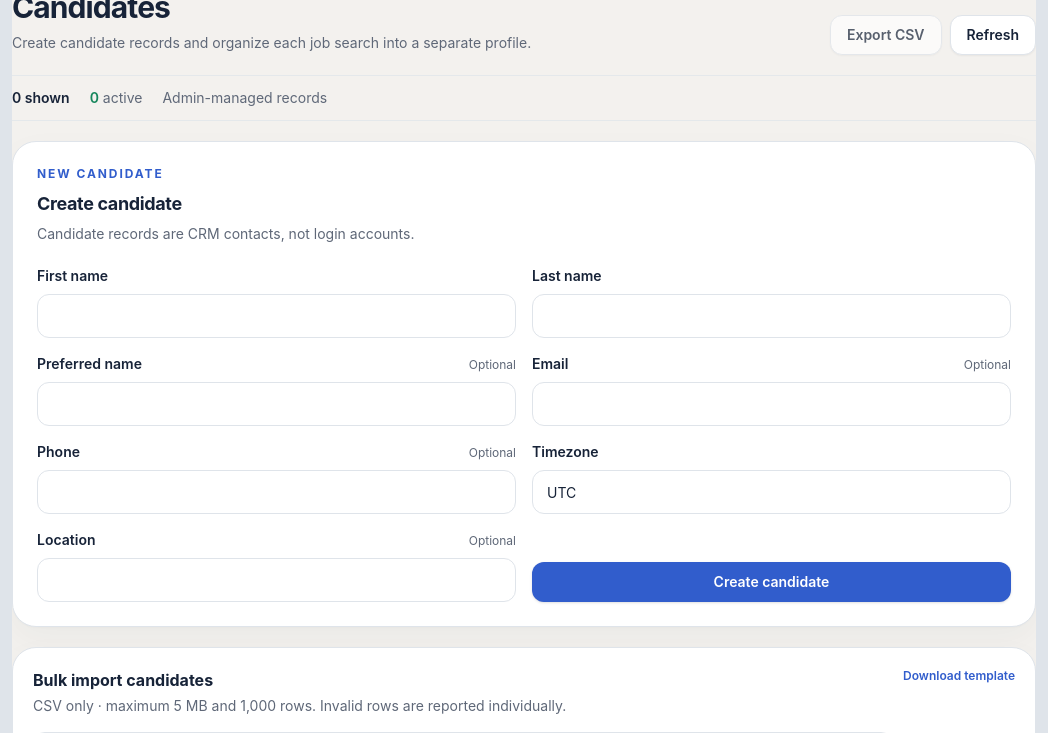
CandidateList › renders empty and retryable error states
Click the button with aria-label "Refresh candidates": (993, 35) [950,15,1036,55]
(page scrolled)
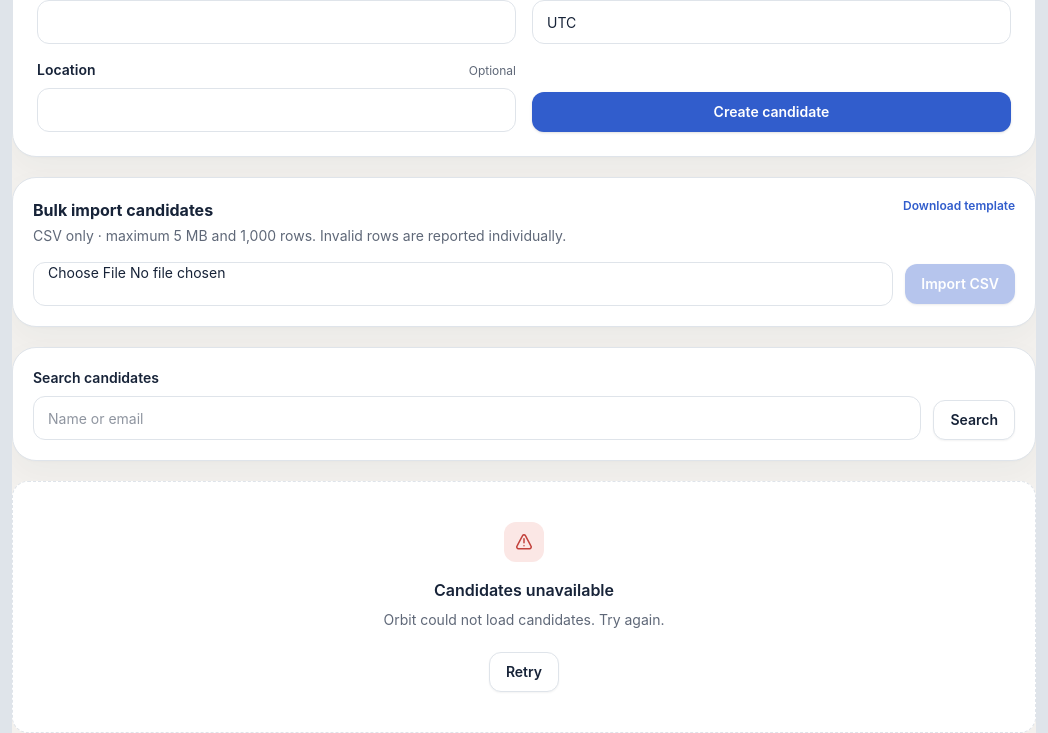
Result: the text "Candidates unavailable" is shown at [434,578,614,602]
Click the button "Retry": (524, 672) [489,652,559,692]
(page scrolled)
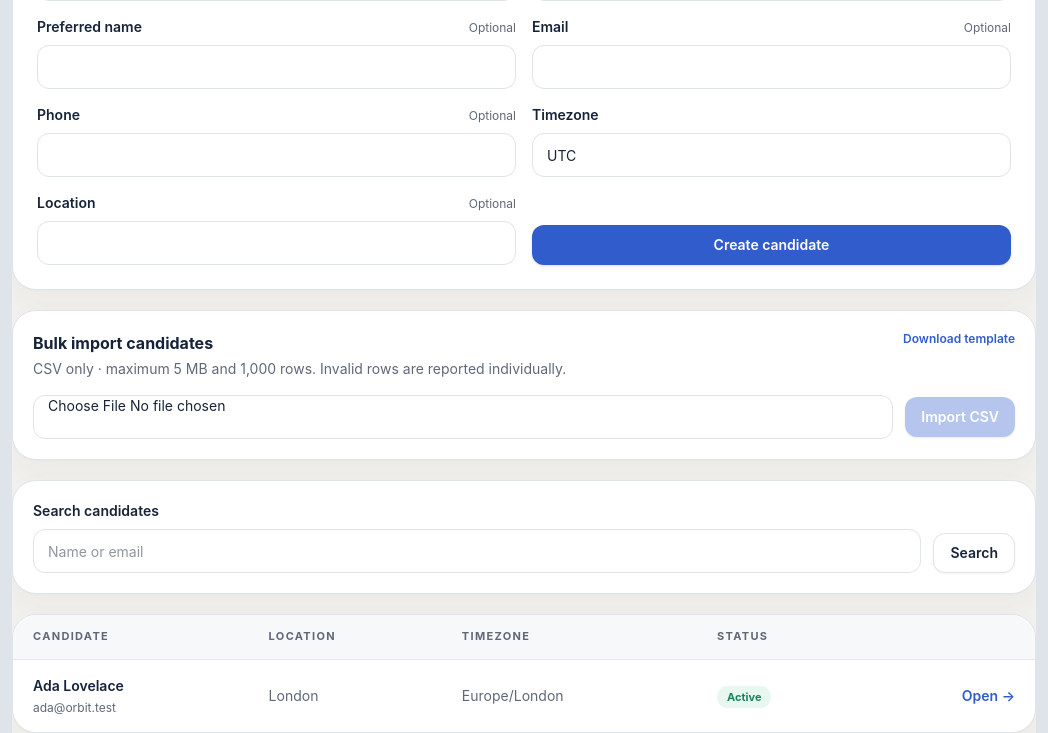
Result: the text "Ada Lovelace" is shown at [33,677,124,694]
